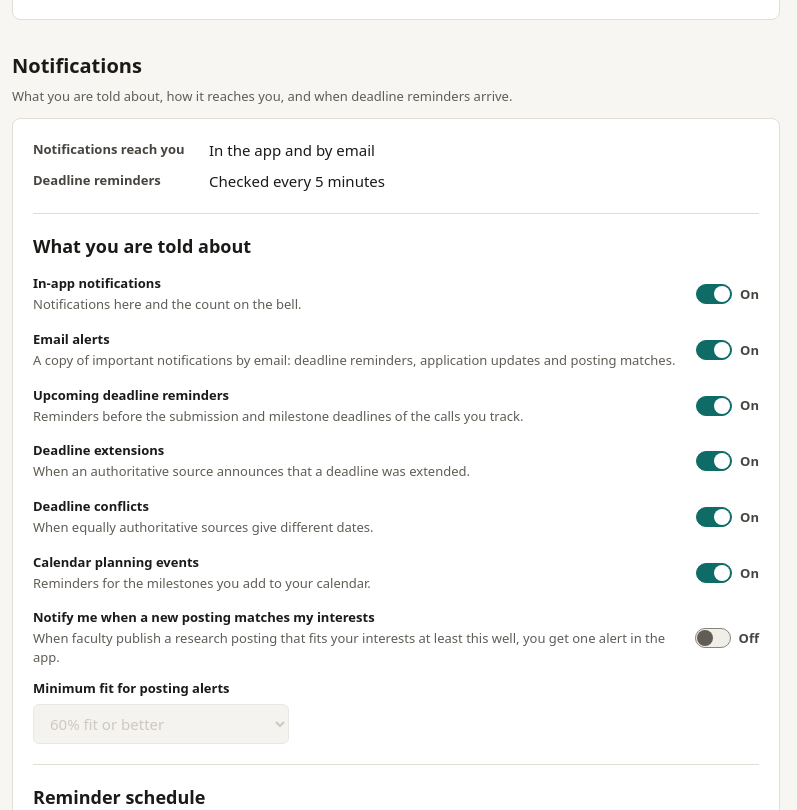
notification switches › holds a switch while its change is saving, so it cannot be sent twice
(page scrolled)
What coordinates should you click on to do the following:
click the switch named "Upcoming deadline reminders"
I would click on:
 (728, 406)
Its box is [696,394,759,418].
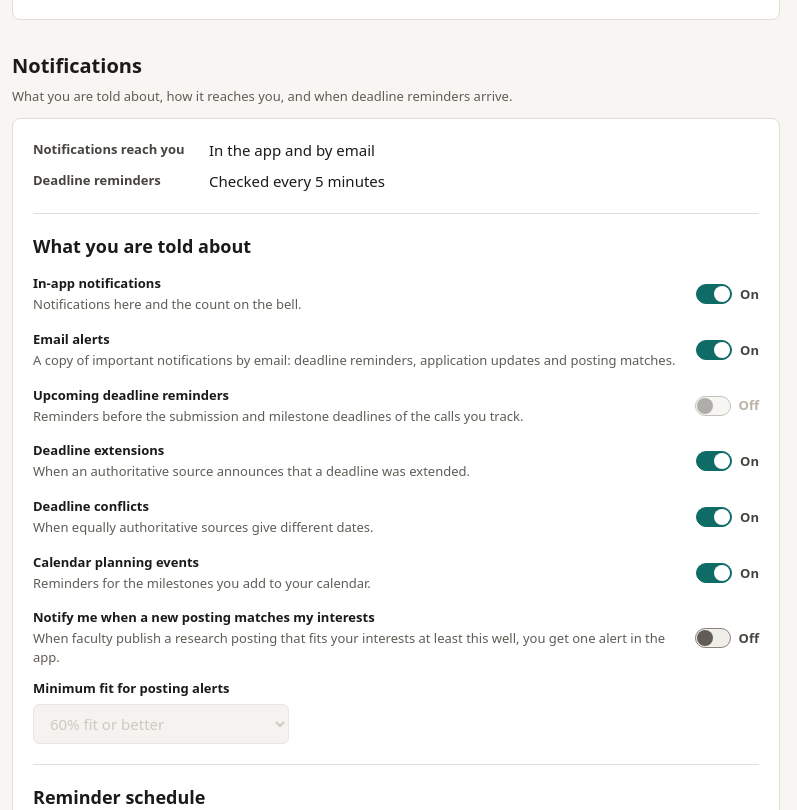
Check: the switch named "Upcoming deadline reminders" is disabled
What coordinates should you click on to do the following:
click the switch named "Upcoming deadline reminders"
I would click on:
 (727, 406)
Its box is [695,394,759,418].
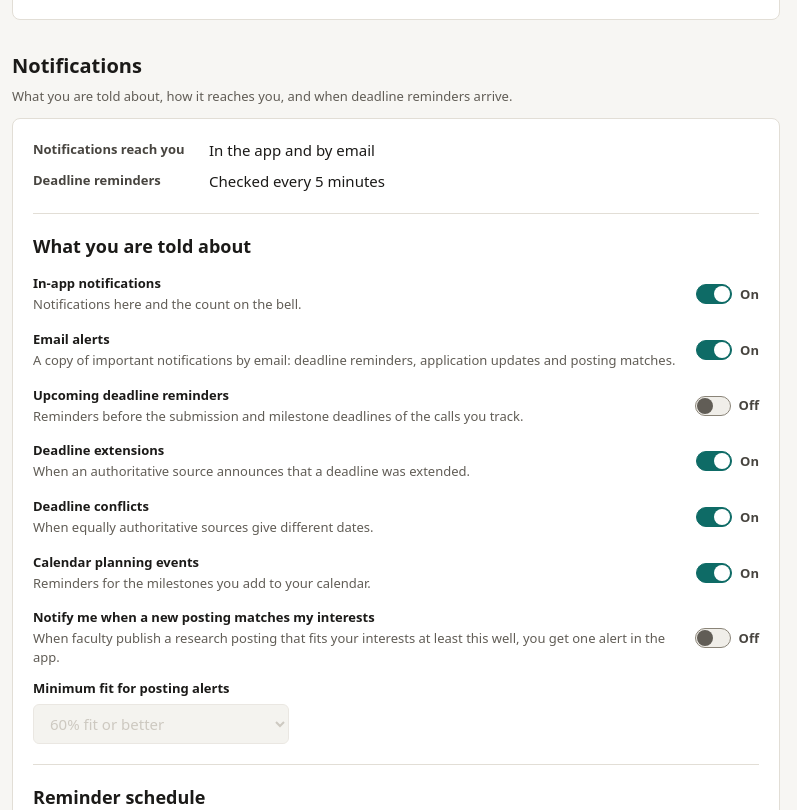
Check: the switch named "Upcoming deadline reminders" is not checked, box [695,394,759,418]
Check: the switch named "Upcoming deadline reminders" is enabled, box [695,394,759,418]
